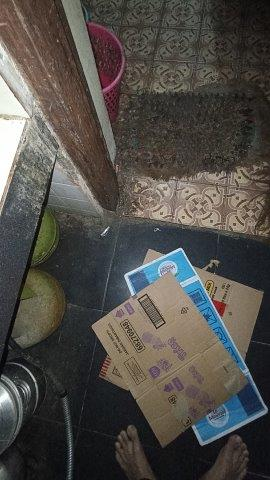kardus: (93, 250, 267, 446)
